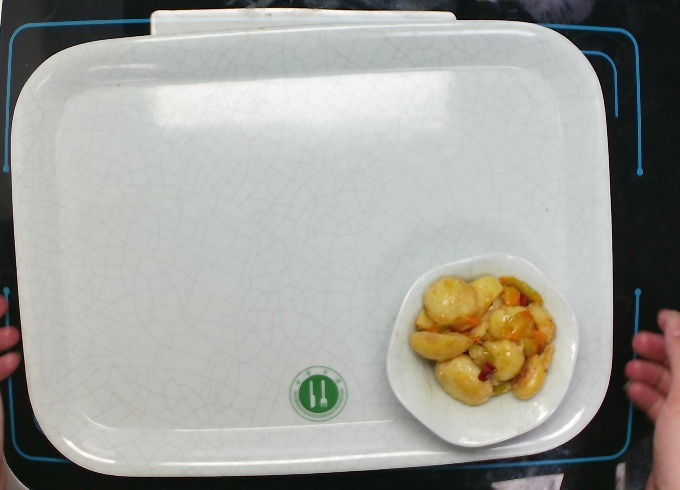WCQzf-Hua_Duo_Wan: (384, 252, 581, 448)
